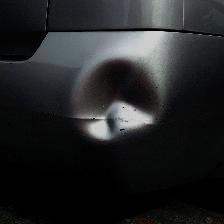bumper_dent: (81, 57, 167, 140)
